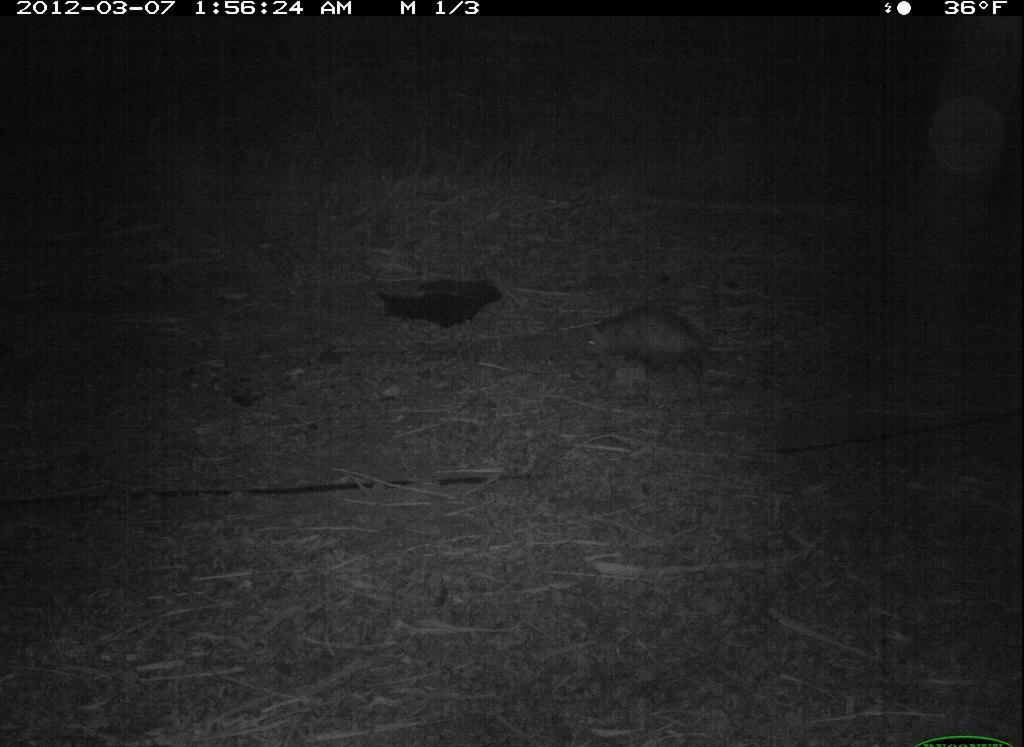opossum: (574, 295, 765, 402)
